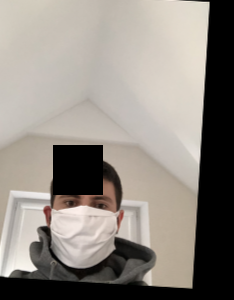with_mask: (49, 185, 119, 269)
